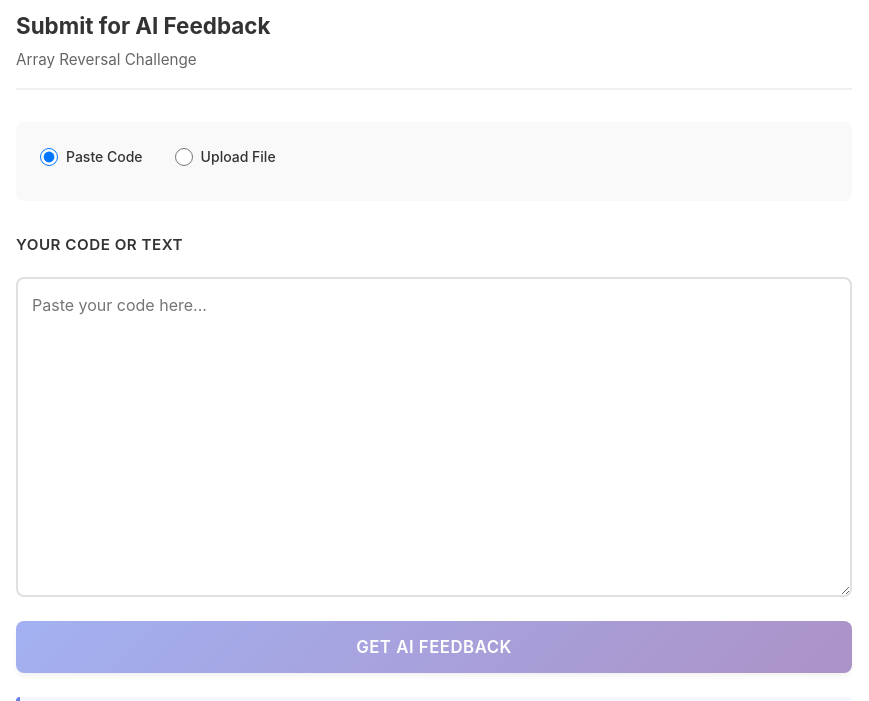
SubmitFeedbackForm › Text submission mode › should enable submit button when textarea has content
Type "code here" into the text box with test id "submission-textarea". click: (434, 437)
box: x1=16 y1=277 x2=852 y2=597
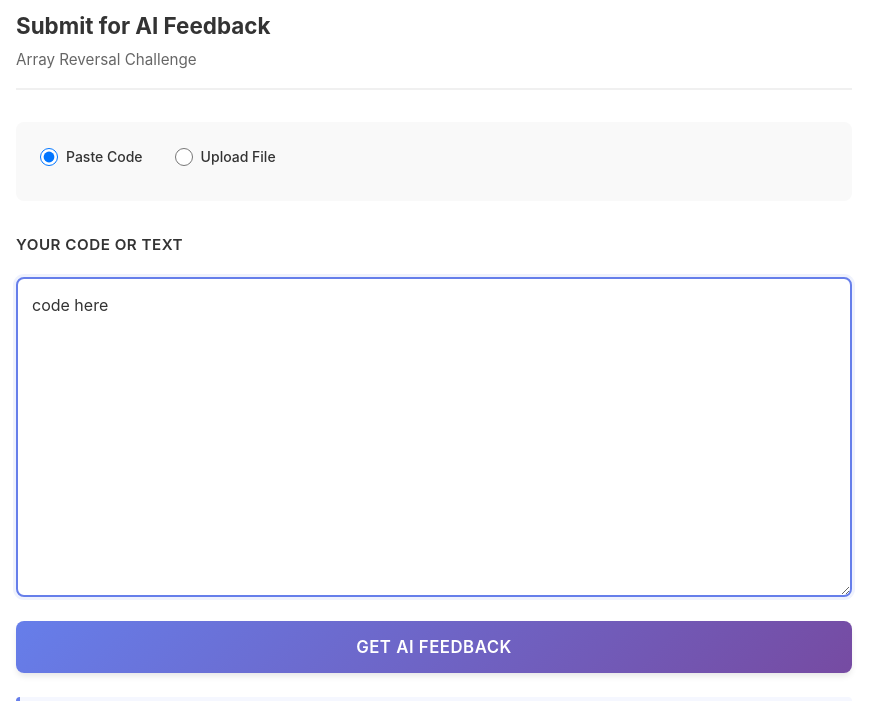
Expected: the button with test id "submit-btn" is enabled, x1=16 y1=621 x2=852 y2=673
